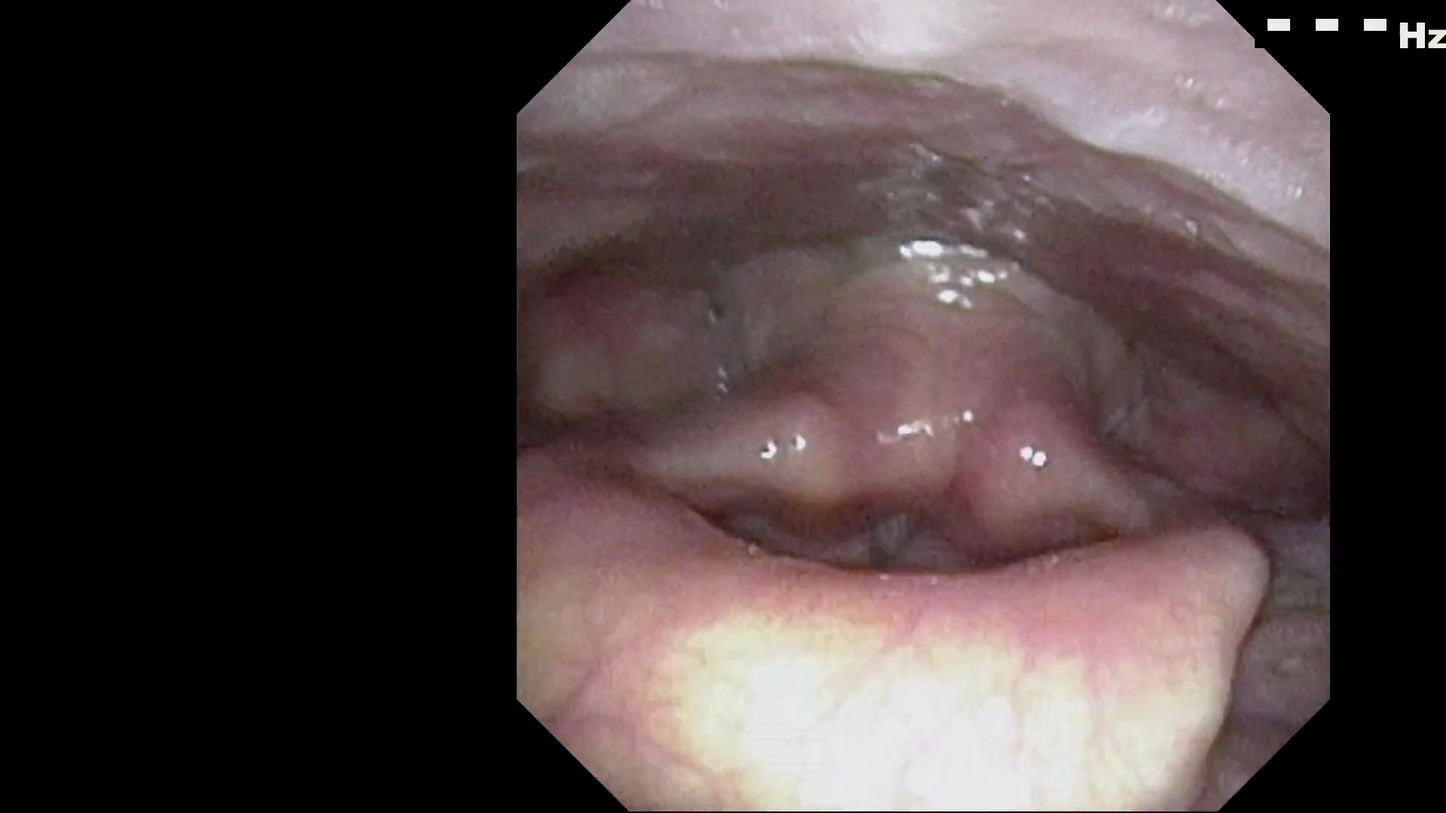epiglottis: (521, 510, 1265, 785)
trachea: (827, 460, 977, 633)
